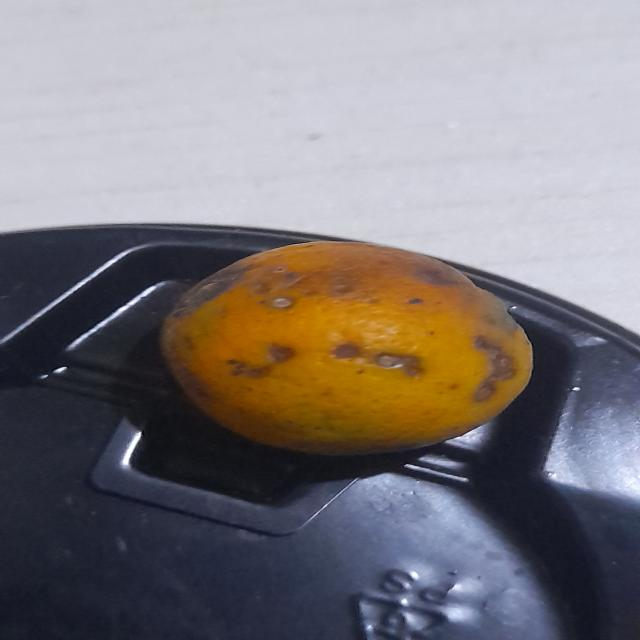black spot: (169, 241, 538, 458)
